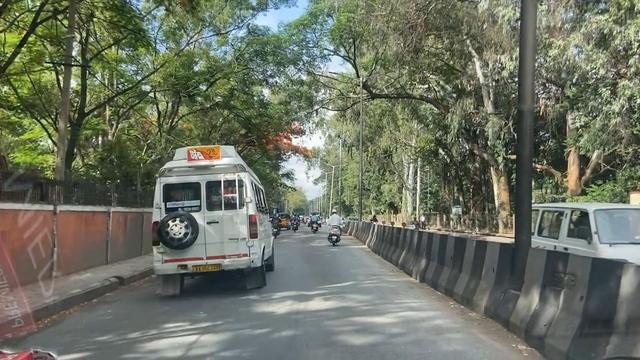HMV: (150, 157, 260, 280)
LMV: (330, 210, 345, 245), (311, 209, 319, 233)
